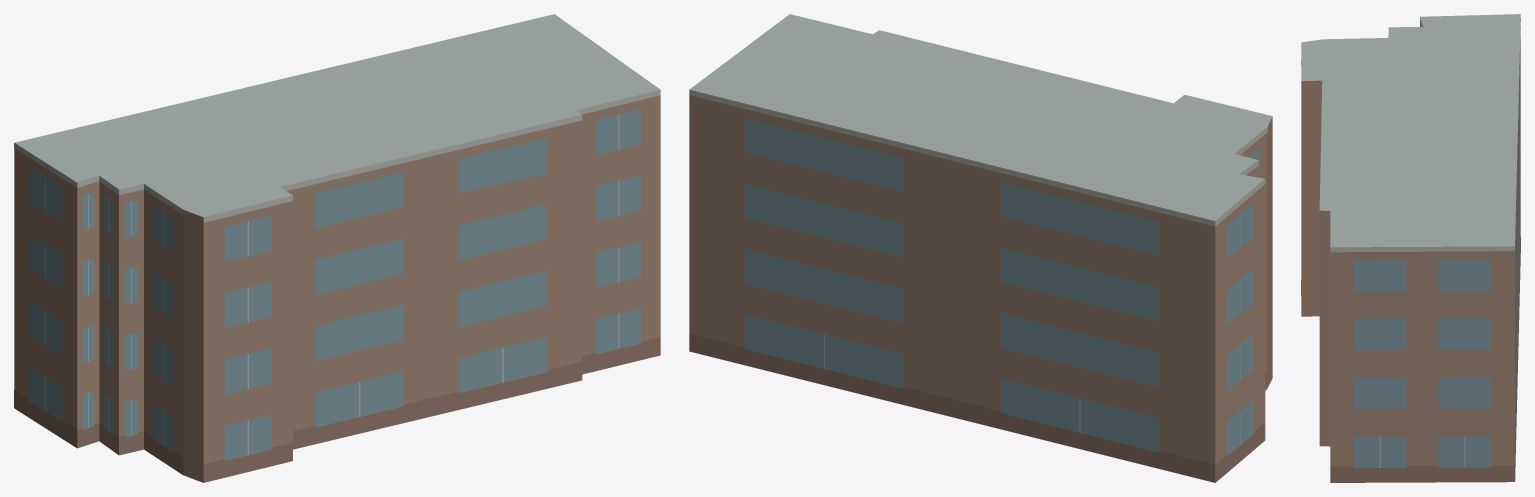
File: survey-upis-32495614.glb
The picture shows the model from 3 angles, left to right: view 1: azimuth 30°, elevation 25°; view 2: azimuth 150°, elevation 25°; view 3: azimuth 270°, elevation 25°; orthographic projection. The views are drawn at different scales.
Parts seen in each view (by area): view 1: survey-upis-32495614.tmp; view 2: survey-upis-32495614.tmp; view 3: survey-upis-32495614.tmp.
Part boxes in pixels (bbox=[...]): survey-upis-32495614.tmp: bbox=[14, 14, 660, 482]; survey-upis-32495614.tmp: bbox=[689, 14, 1272, 482]; survey-upis-32495614.tmp: bbox=[1301, 14, 1520, 482].
Size of the model in its own units: 24.86 by 11.7 by 9.9.
